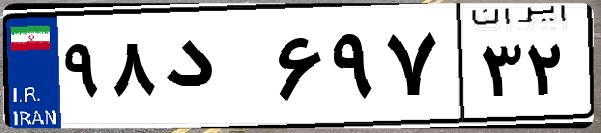2: (525, 38, 570, 115)
3: (475, 38, 525, 113)
6: (270, 28, 330, 110)
7: (385, 28, 445, 110)
8: (110, 28, 158, 98)
9: (330, 28, 385, 110), (57, 26, 110, 100)
د: (158, 20, 270, 120)
